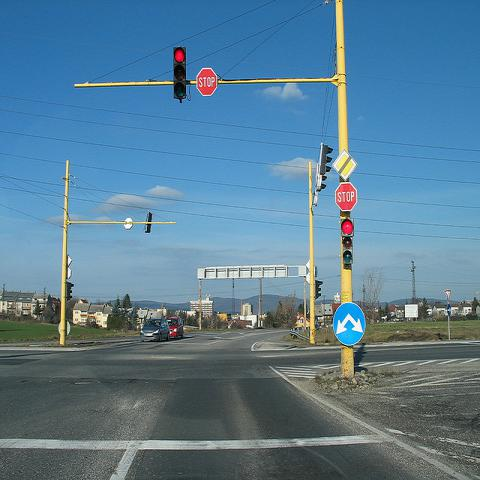car: (141, 319, 171, 343), (166, 316, 184, 339)
